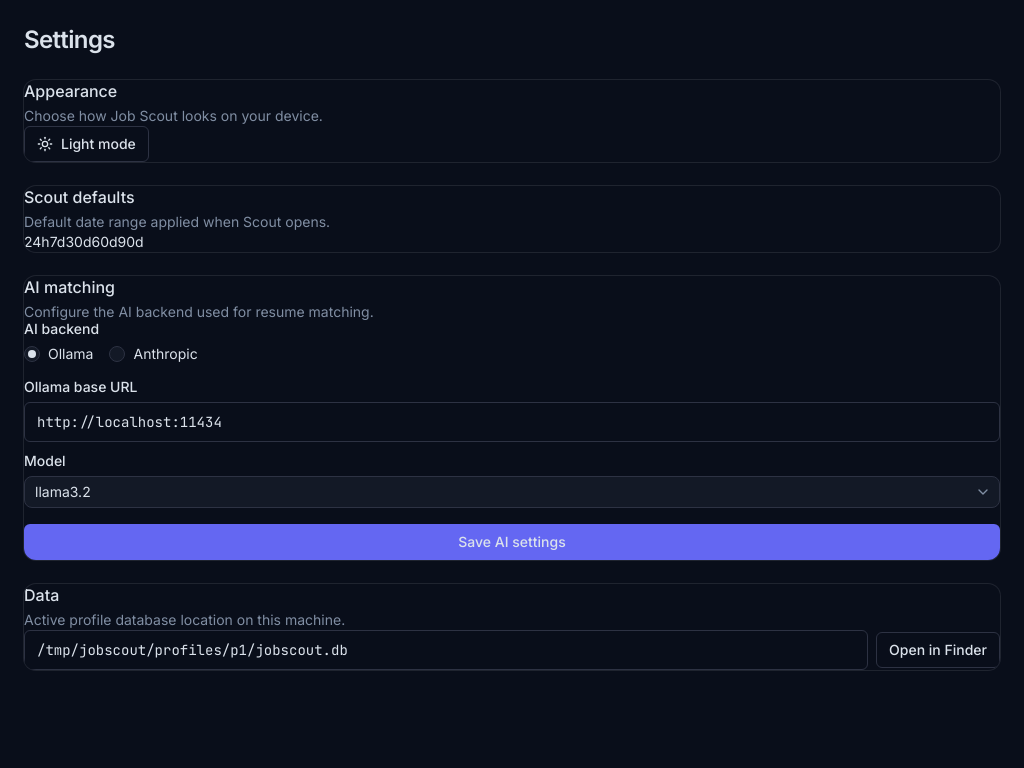
SettingsScreen › blocks Save AI settings for invalid Ollama URL scheme
Click the field labelled "Ollama base URL" at (512,422), box 24,402 -> 1000,442
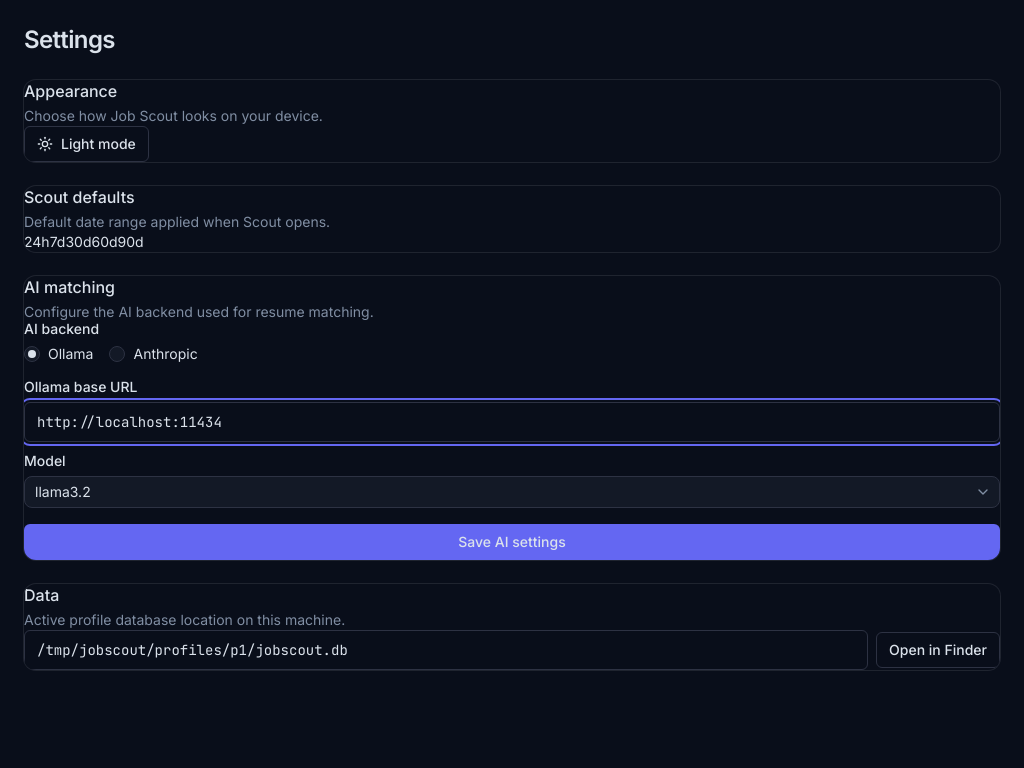
Type keys "{Control>}a{/Control}"
Type keys "ftp://localhost"
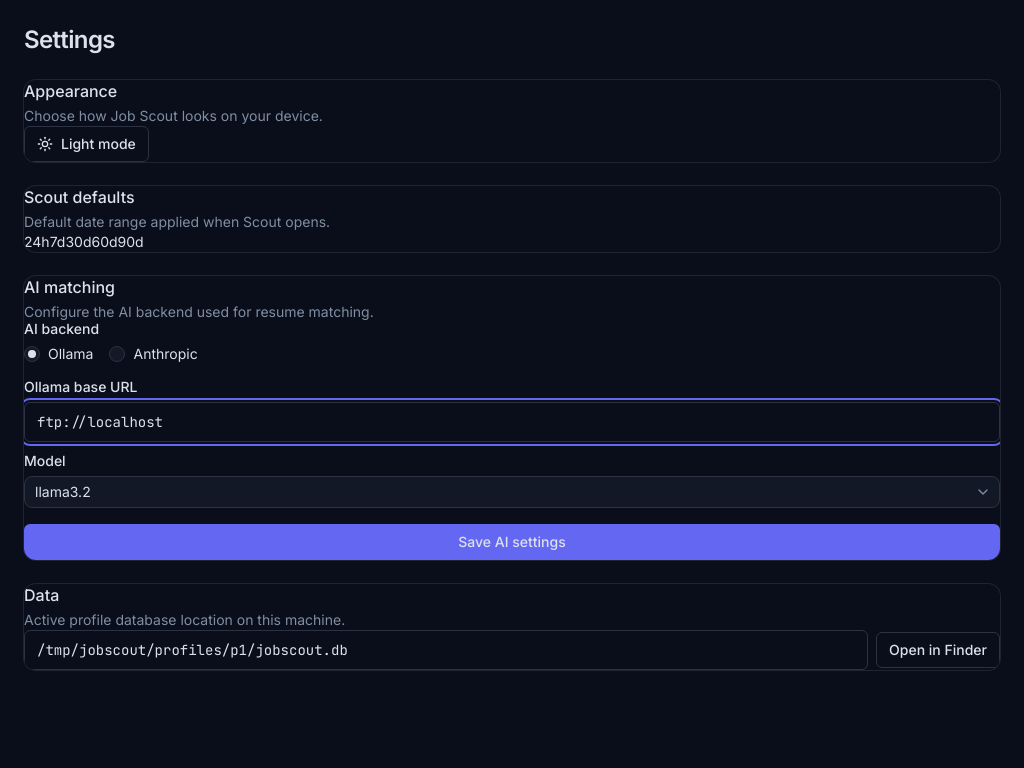
Click the button "Save AI settings" at (512,542), box 24,524 -> 1000,560
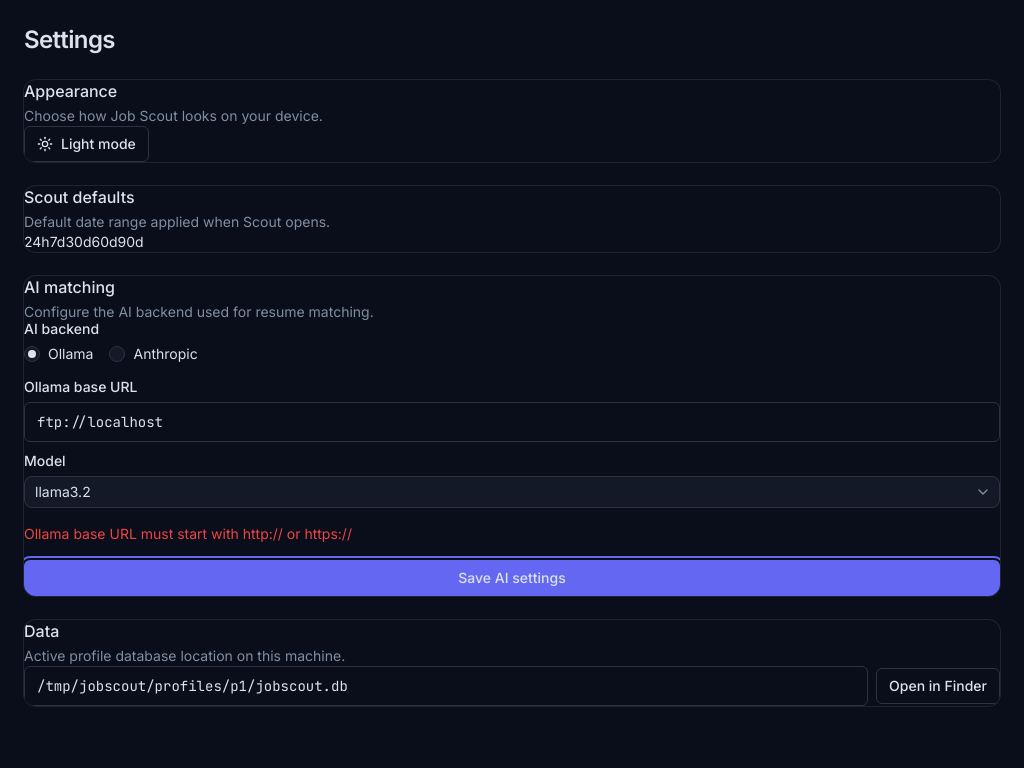
Expected: the text "Ollama base URL must start with http:// or https://" is shown, 24,525 -> 352,542
